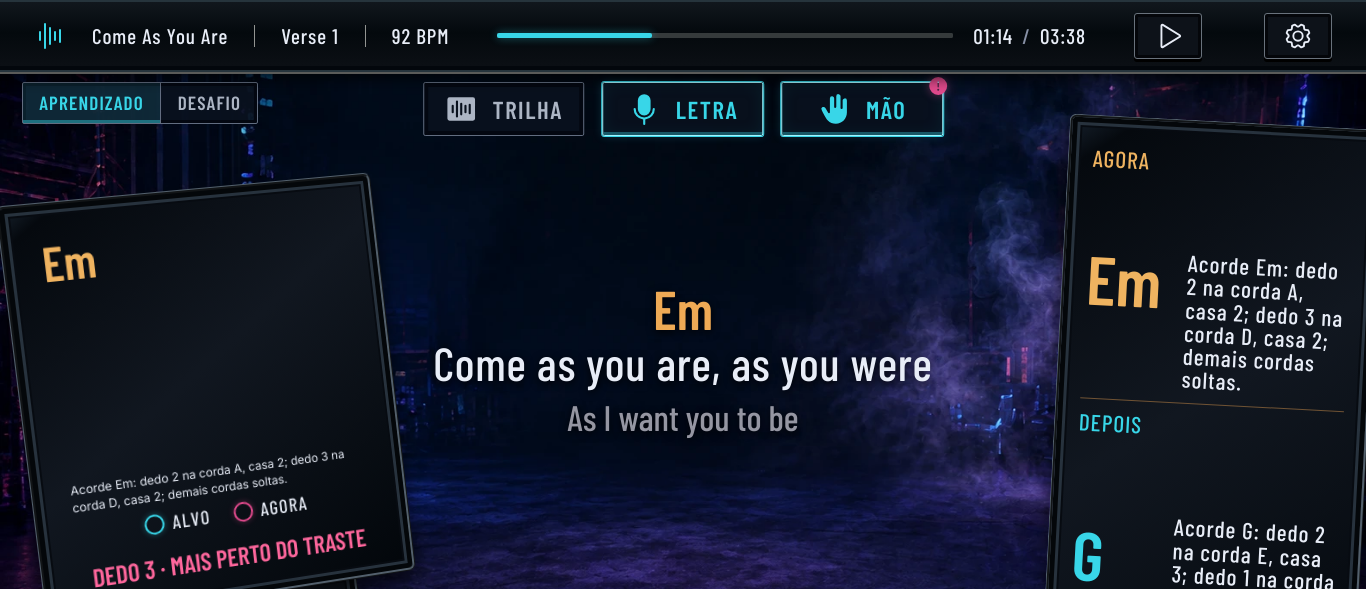
Scenario: practice screen › exposes the independent effect settings with sound disabled
The width and height of the screenshot is (1366, 589).
Click the button named "Configurações".
click(1298, 36)  # box [1264,13,1332,59]
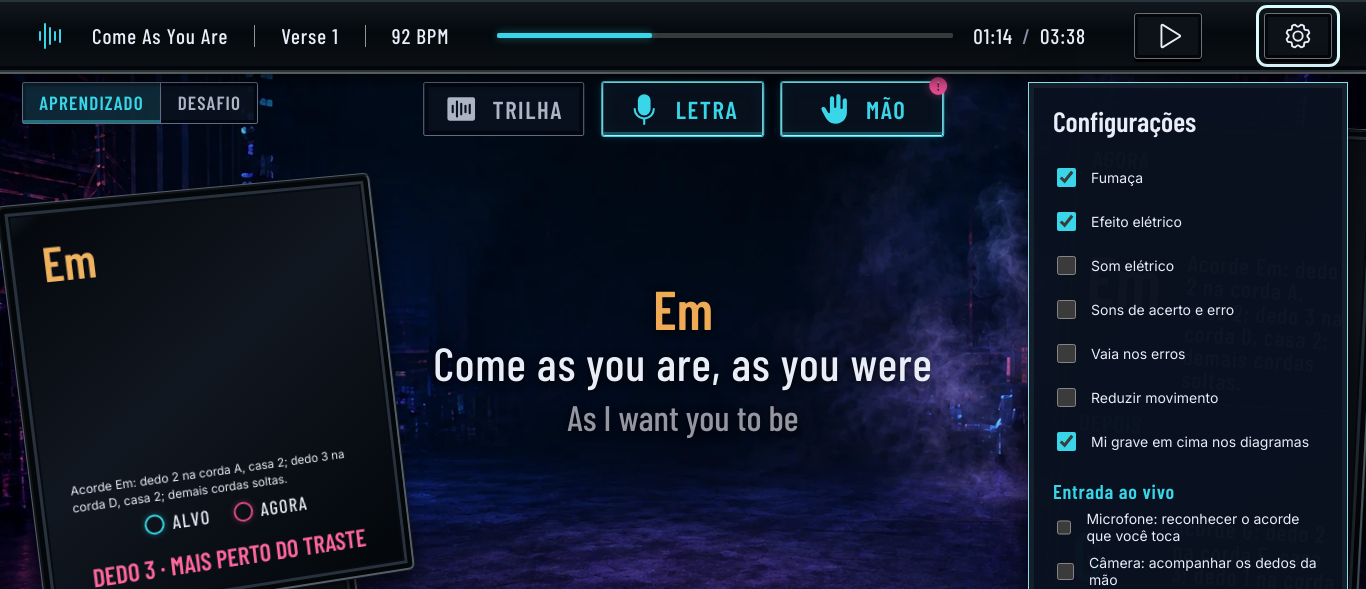
Expected: the checkbox labelled "Fumaça" is checked, [1057,168,1076,186]
Expected: the checkbox labelled "Efeito elétrico" is checked, [1057,212,1076,230]
Expected: the checkbox labelled "Som elétrico" is not checked, [1057,256,1076,274]
